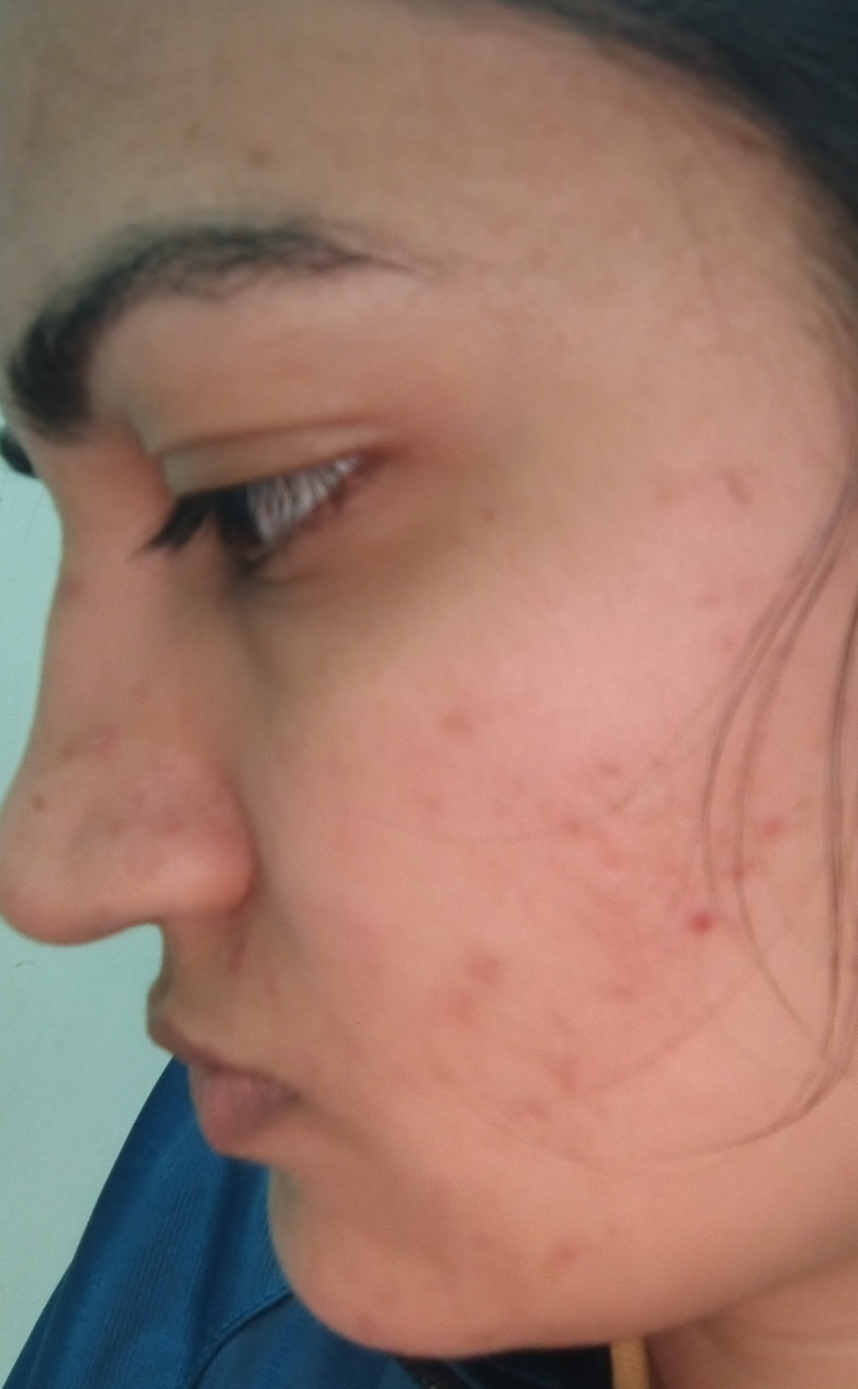papule: (446, 931, 538, 1005), (662, 893, 733, 964), (561, 778, 604, 863), (552, 1042, 598, 1119)
